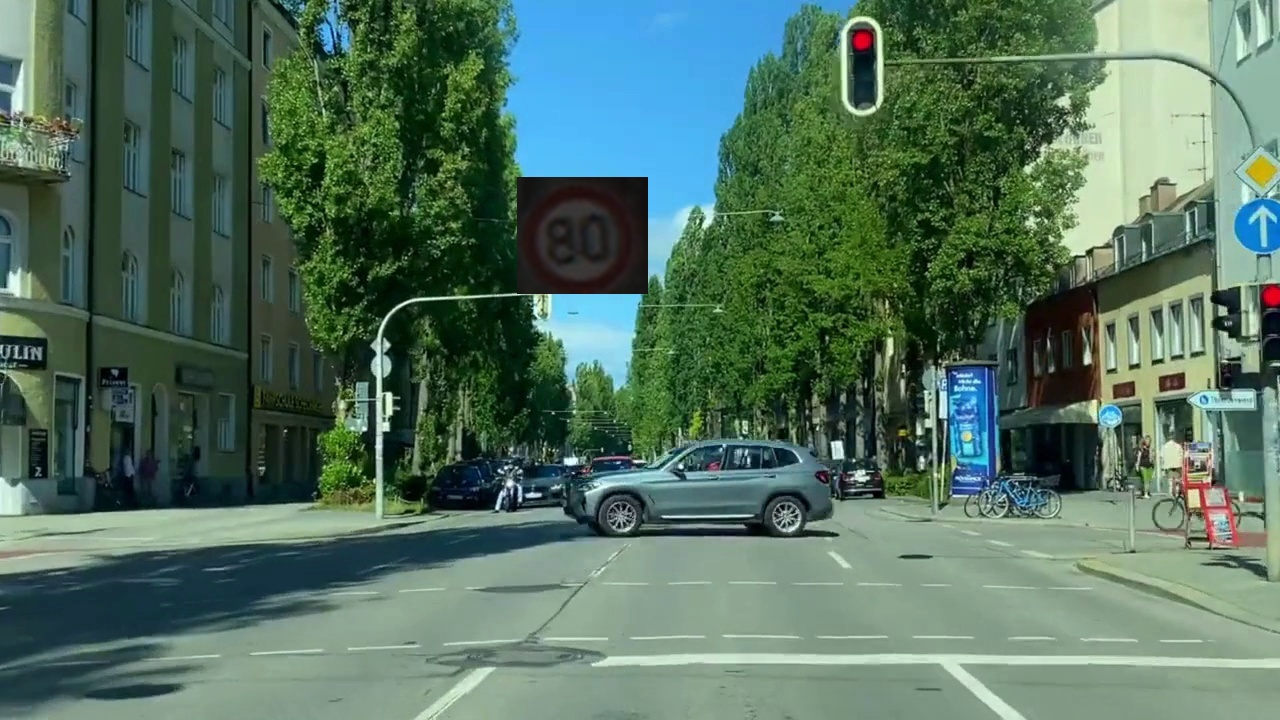Speed 80: (517, 177, 648, 294)
